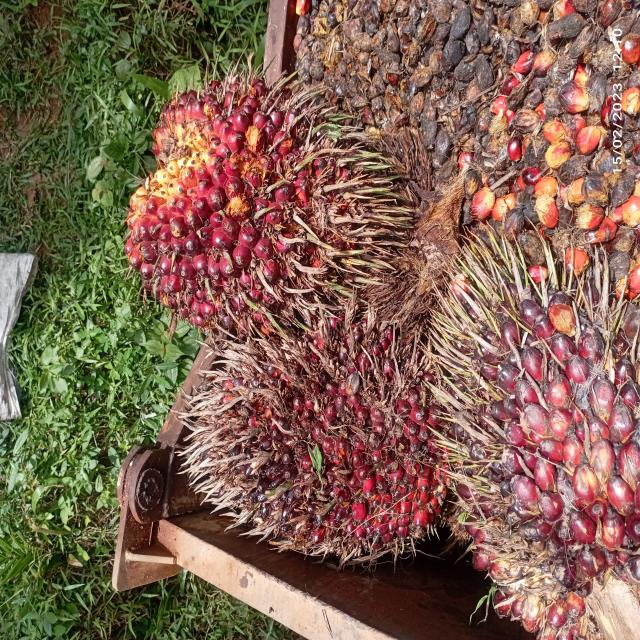fraksi 00: (378, 172, 640, 640)
fraksi 1: (140, 280, 488, 608)
fraksi 3: (112, 40, 390, 350)
